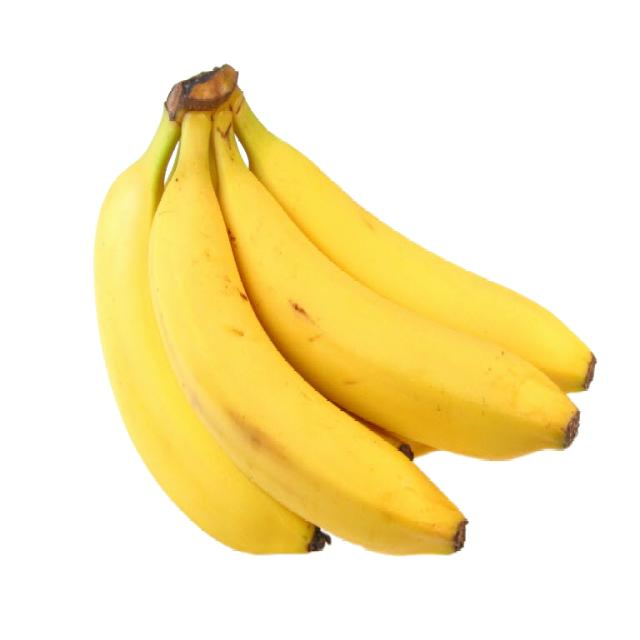Banana: (86, 57, 607, 578)
